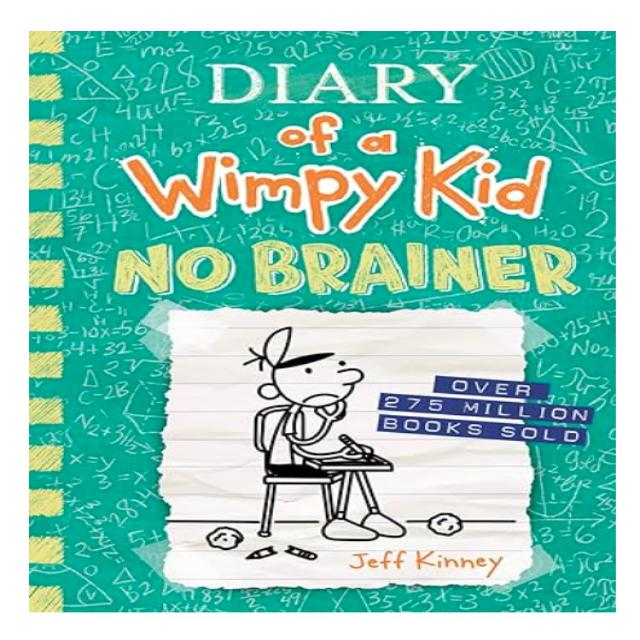titles-or-authors: (103, 51, 590, 306), (340, 543, 515, 577)
